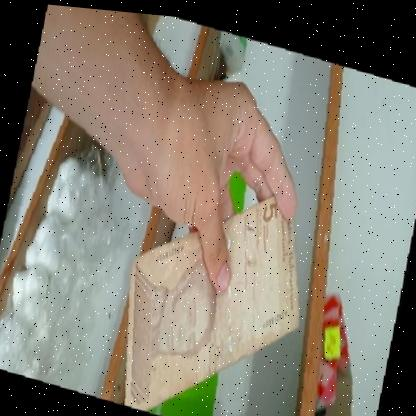five-front-vef: (111, 157, 316, 416)
